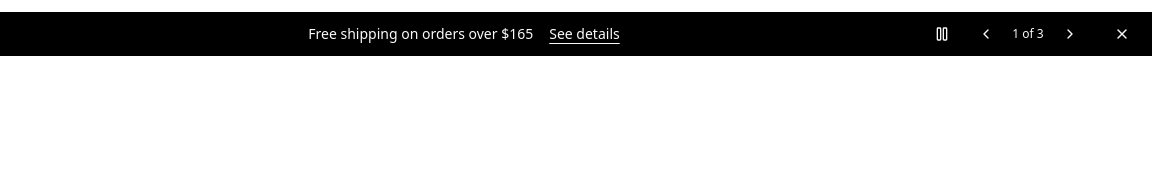
Scenario: AnnouncementBar › several messages: the pause control (WCAG 2.2.2) › says Play once paused, and Play starts it again
Click the button named "Pause announcements": (942, 34) [920,12,964,56]
Wait 30000 ms
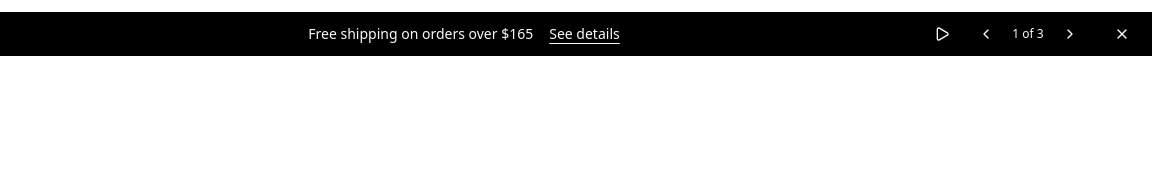
Check: the text "Free shipping on orders over $165" is shown, box [308,24,533,43]
Click the button named "Play announcements": (942, 34) [920,12,964,56]
Wait 6000 ms
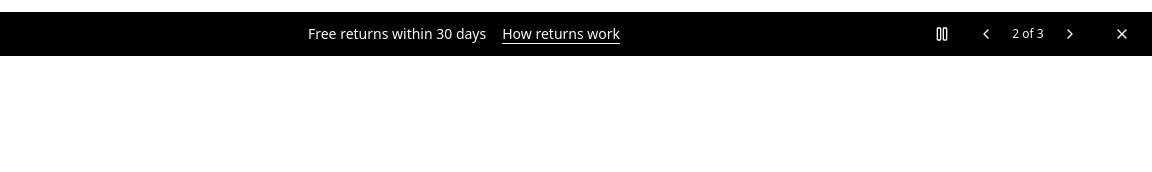
Check: the text "Free returns within 30 days" is shown, box [308,24,486,43]
